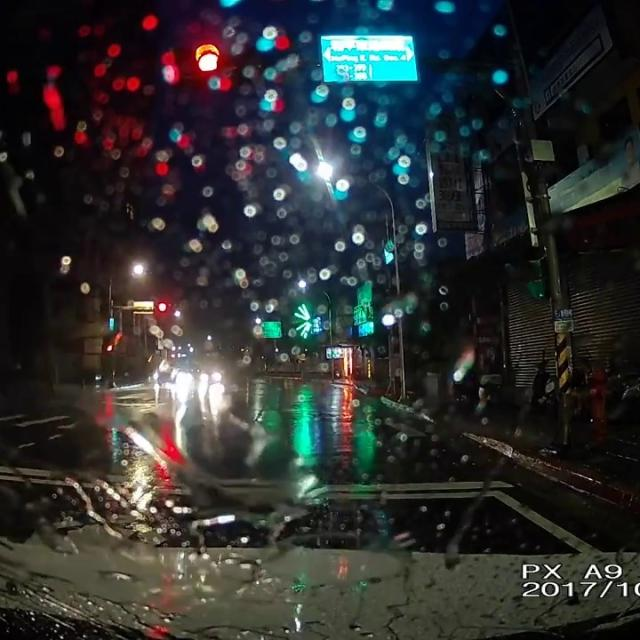Car: (194, 363, 224, 384)
